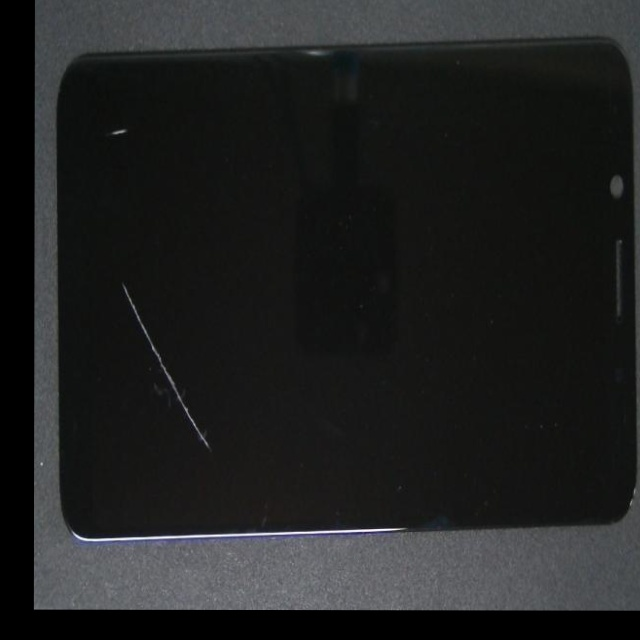scratch: (175, 310, 270, 593), (107, 47, 181, 179)
